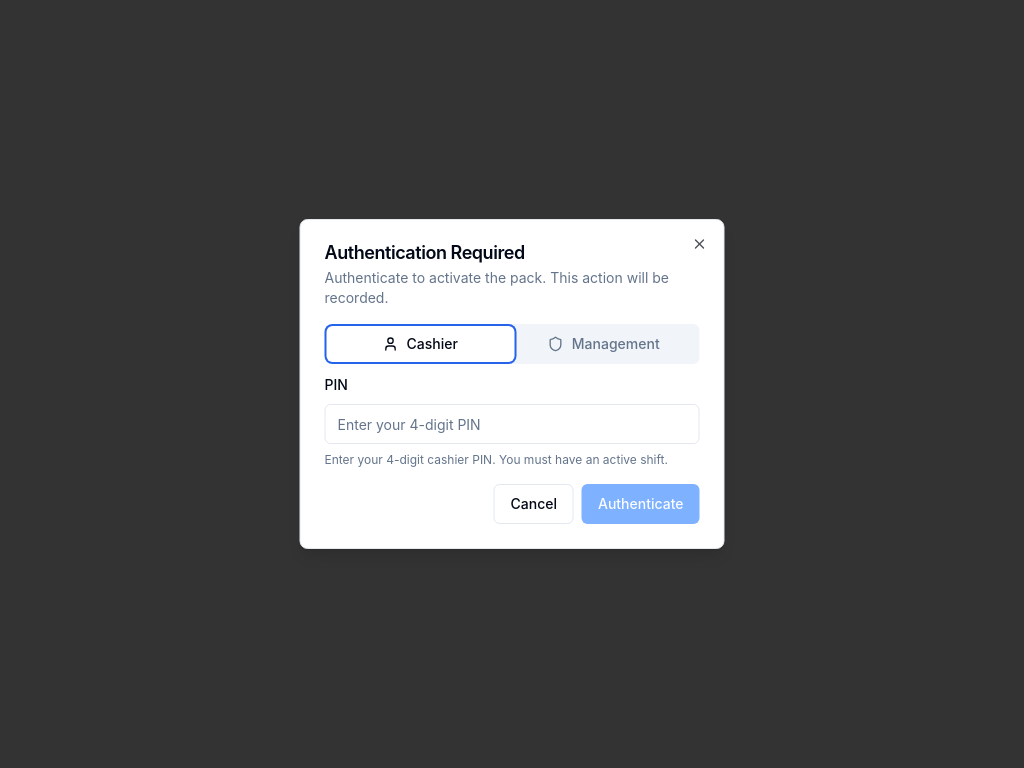
Test: LotteryAuthModal › Form Validation › should enable Management button when email and password are entered
Note: Switch to Management tab
Click the tab with test id "management-tab" at (604, 344), box [512,328,696,360]
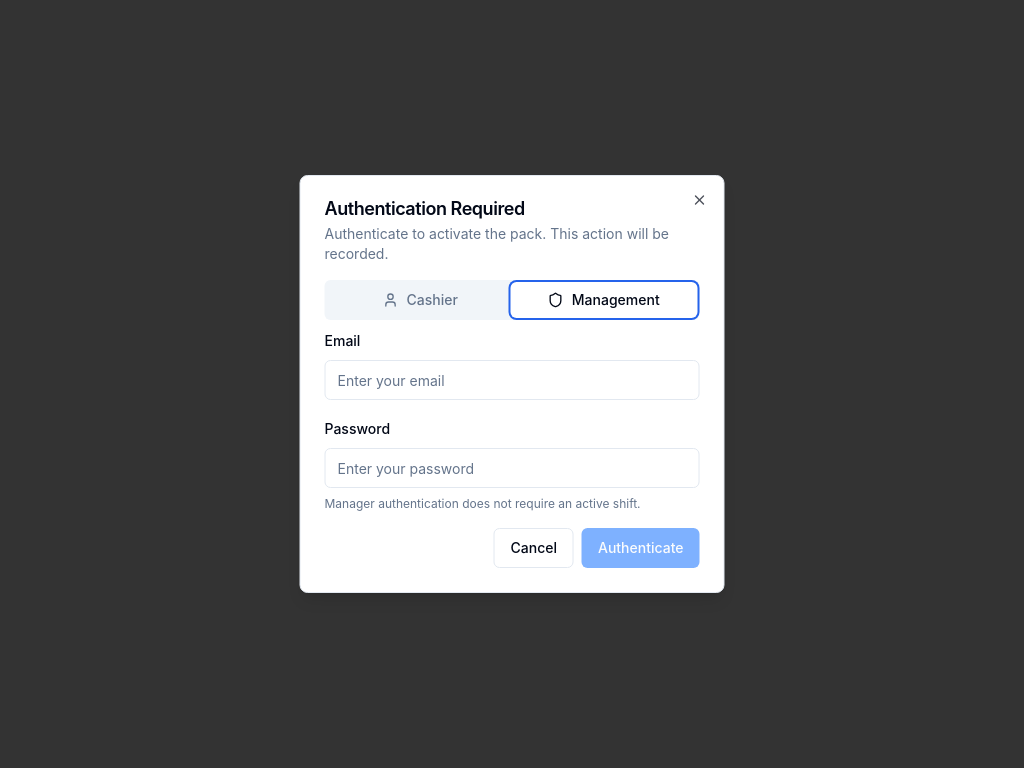
Result: the field with test id "email-input" is shown
Note: Enter email and password
Type "test@example.com" into the field with test id "email-input" at (512, 380), box [324,360,700,400]
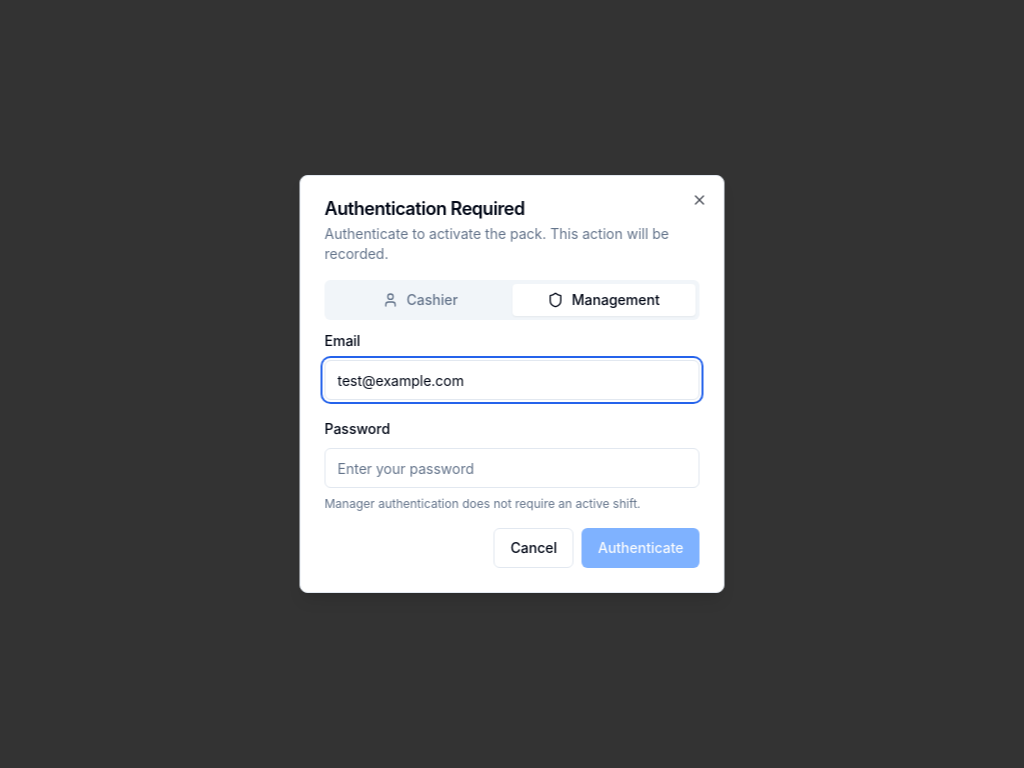
Type "password123" into the password field with test id "password-input" at (512, 468), box [324,448,700,488]
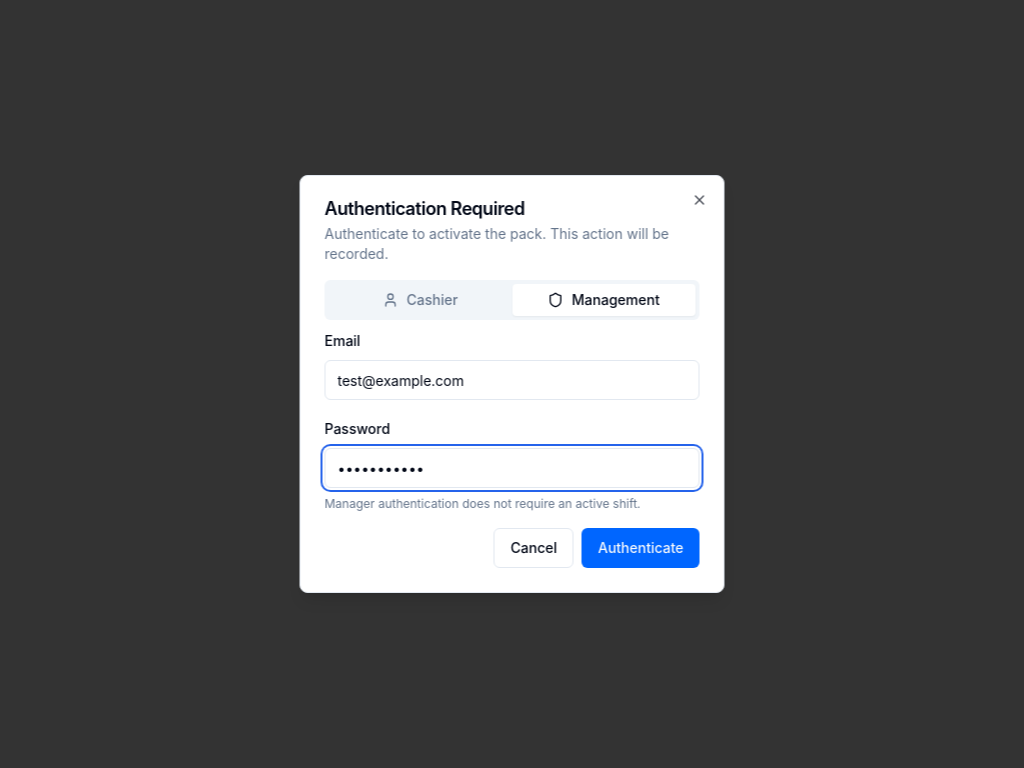
Result: the button with test id "authenticate-button" is enabled at [582,528,700,568]
